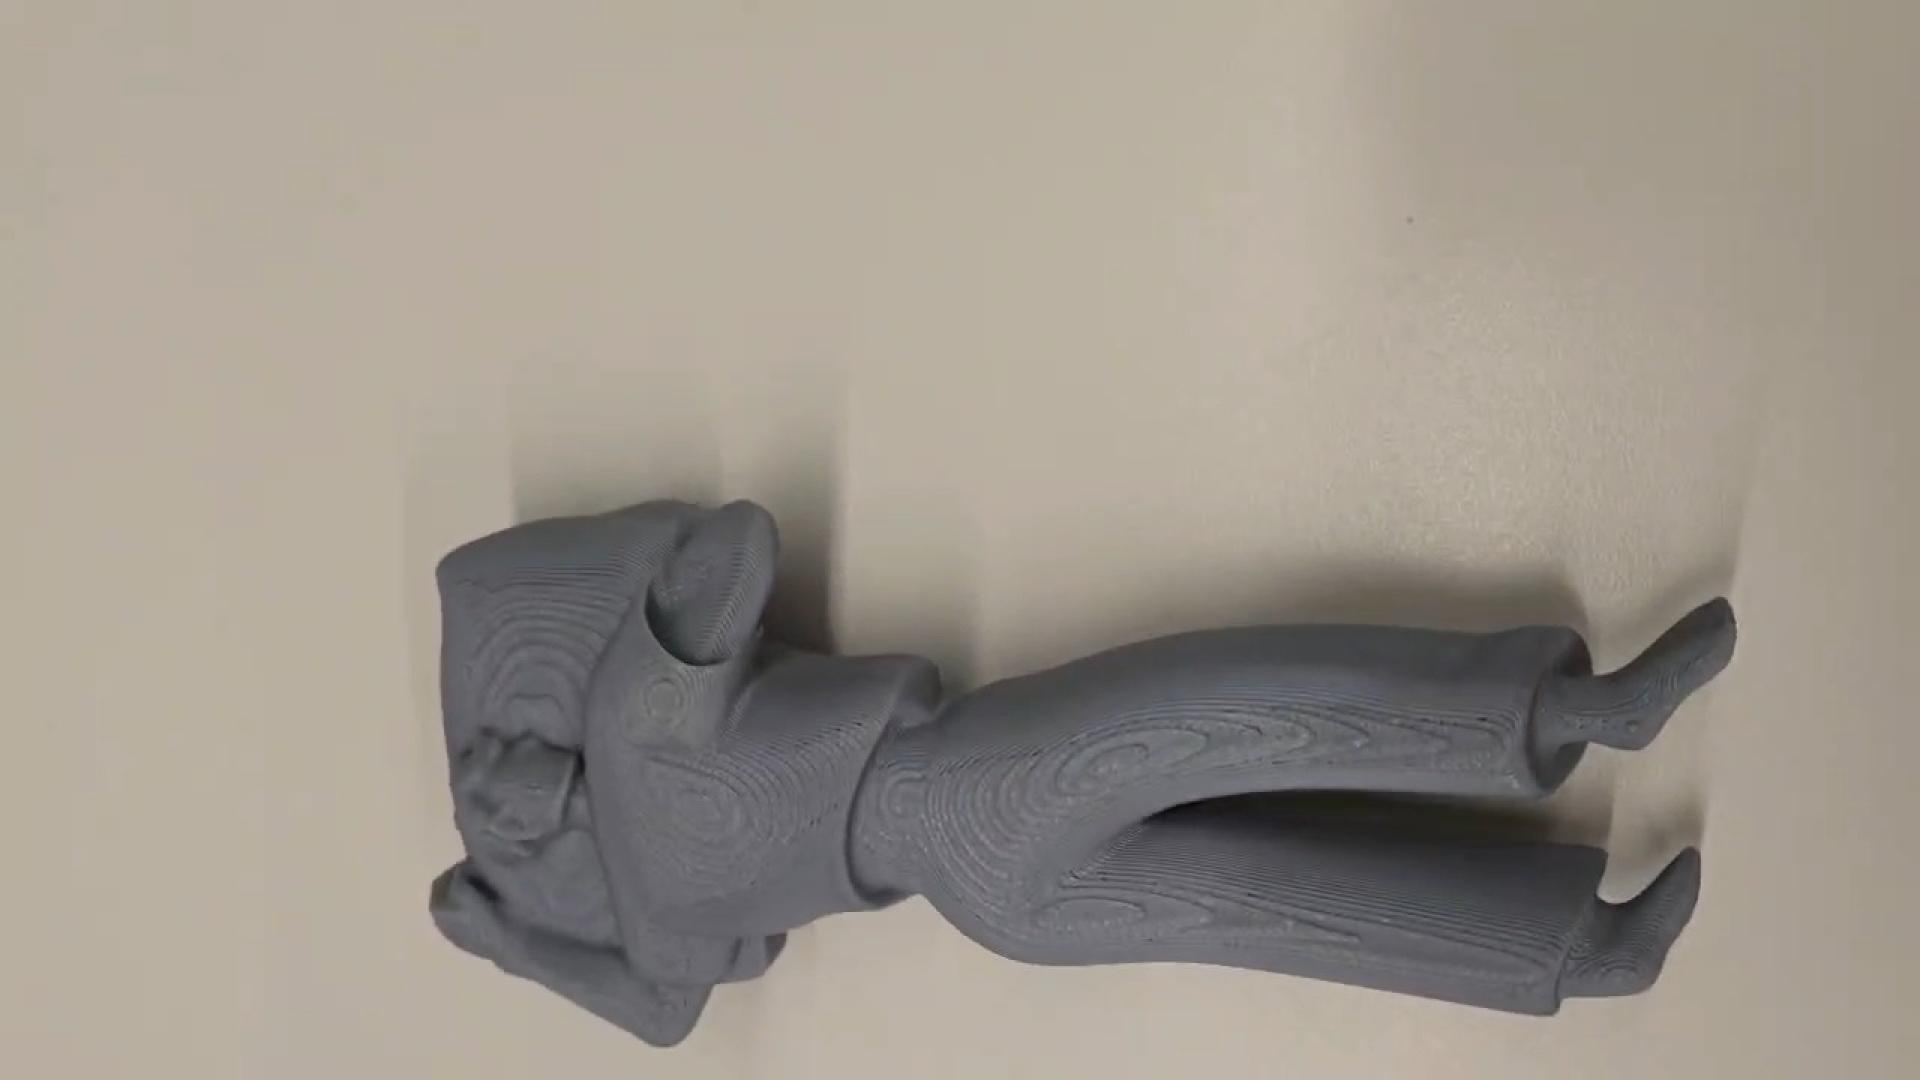Bad-style: (411, 488, 1746, 1052)
